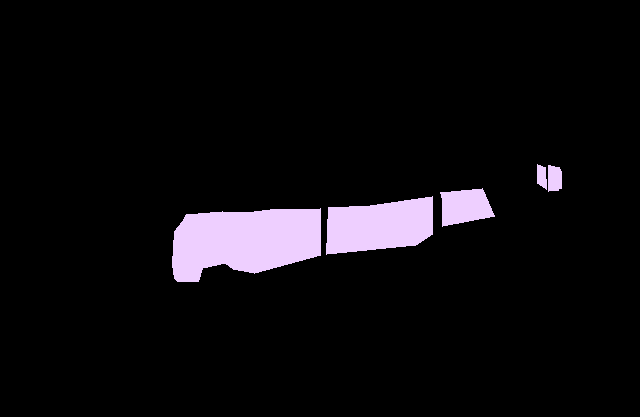Train: (172, 188, 495, 281), (537, 164, 562, 191)
